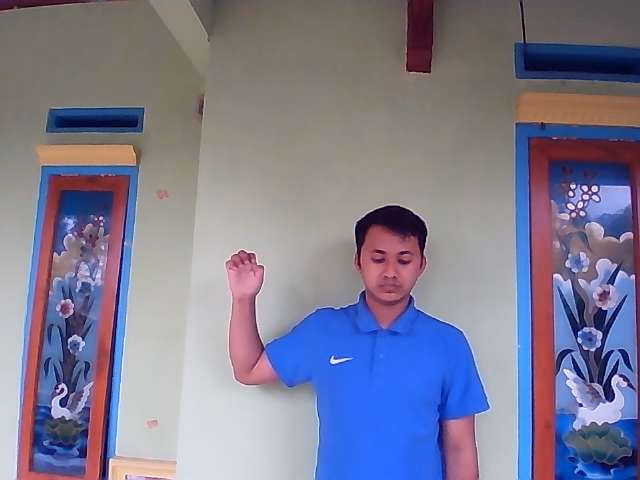E: (225, 248, 265, 301)
